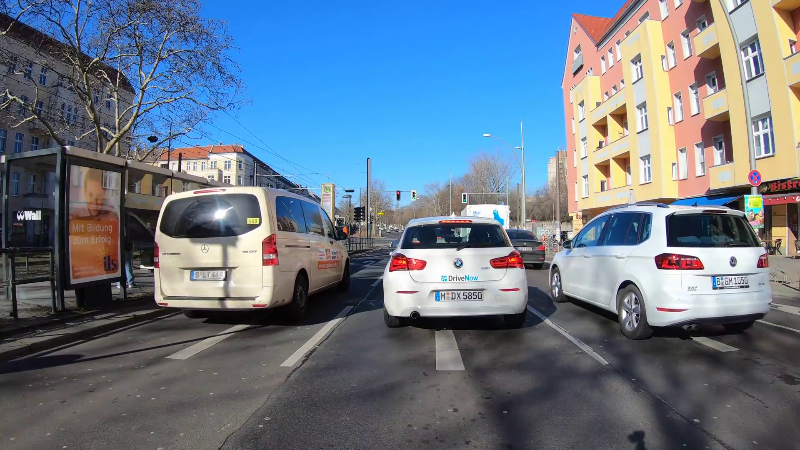Plate: (711, 274, 751, 288), (434, 290, 482, 300), (188, 269, 227, 280)
